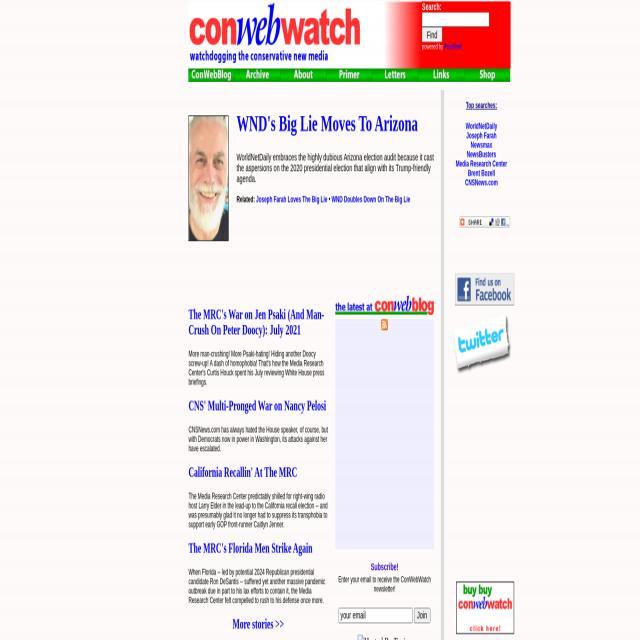button: (188, 0, 421, 68), (188, 114, 228, 240), (452, 312, 516, 381), (455, 583, 514, 634), (335, 294, 433, 314), (454, 272, 514, 304), (188, 67, 234, 81), (234, 67, 280, 81), (280, 67, 326, 81), (326, 67, 372, 81), (372, 67, 418, 81), (418, 67, 463, 81), (464, 67, 509, 81), (458, 215, 510, 227), (421, 26, 441, 41), (413, 607, 430, 622), (381, 318, 387, 329)
field: (338, 607, 412, 622), (421, 11, 489, 26)
